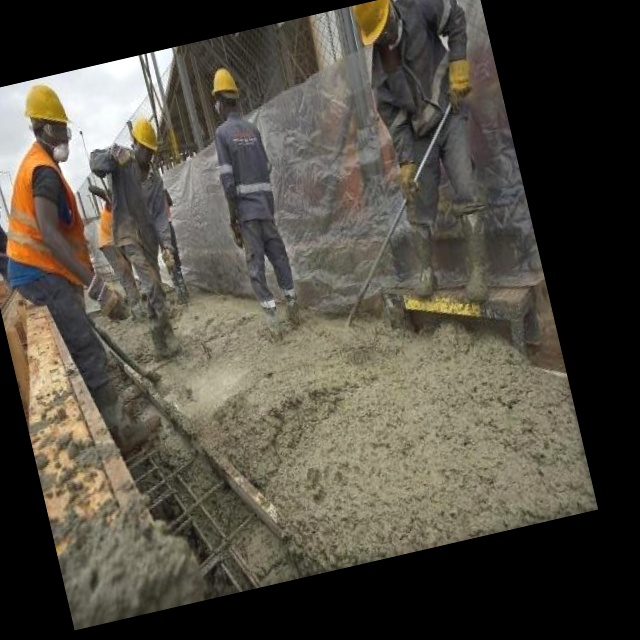Con_Casco: (124, 115, 165, 168), (207, 68, 244, 116)
Con_Chaleco: (0, 146, 100, 298)
